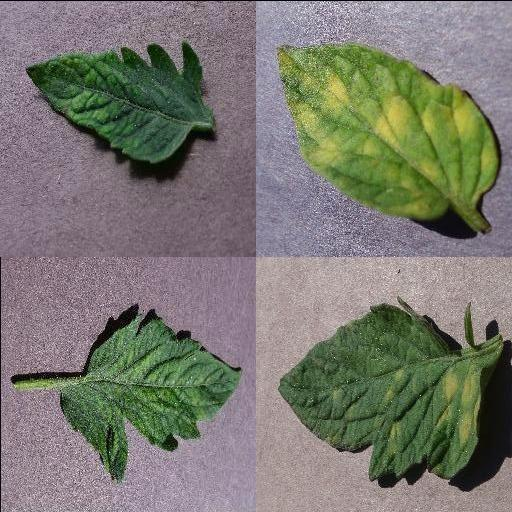Leaf Mold: (275, 43, 499, 217), (277, 292, 483, 478)
Mosaic Virus: (60, 314, 244, 486), (22, 38, 206, 164)
